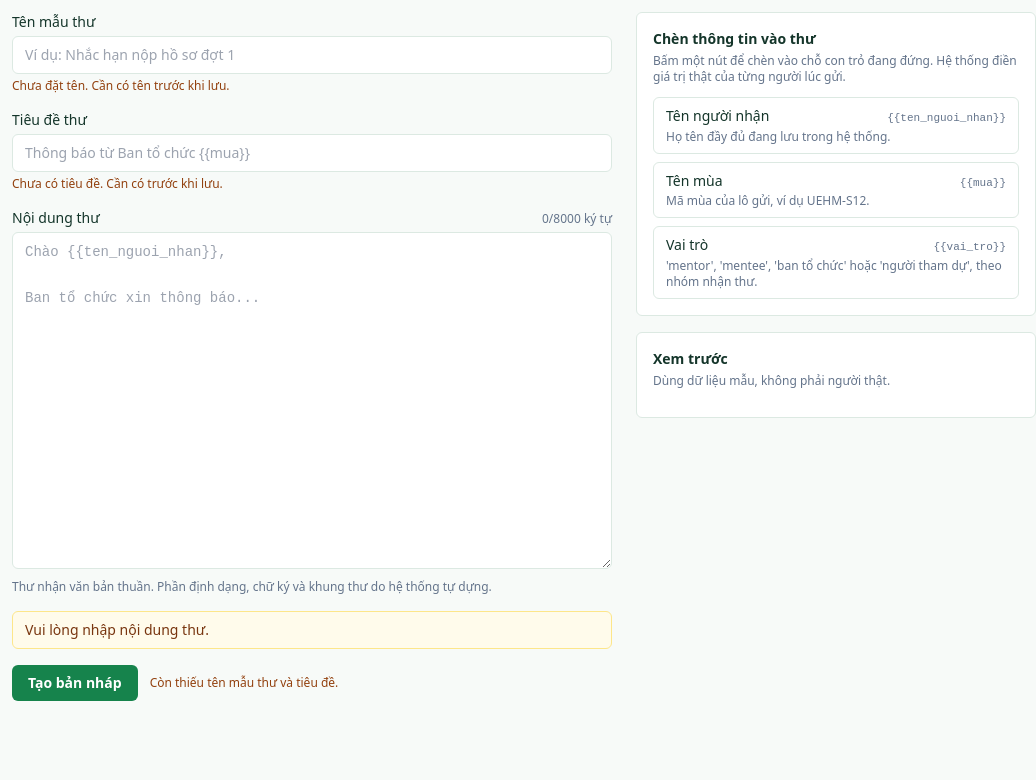
Test: chèn vào đúng chỗ › chèn vào thân thư khi chưa chạm vào ô nào
The width and height of the screenshot is (1036, 780).
What coordinates should you click on to do the following:
click the button "Tên người nhận"
I would click on:
 (836, 125)
Its box is [653,97,1019,154].
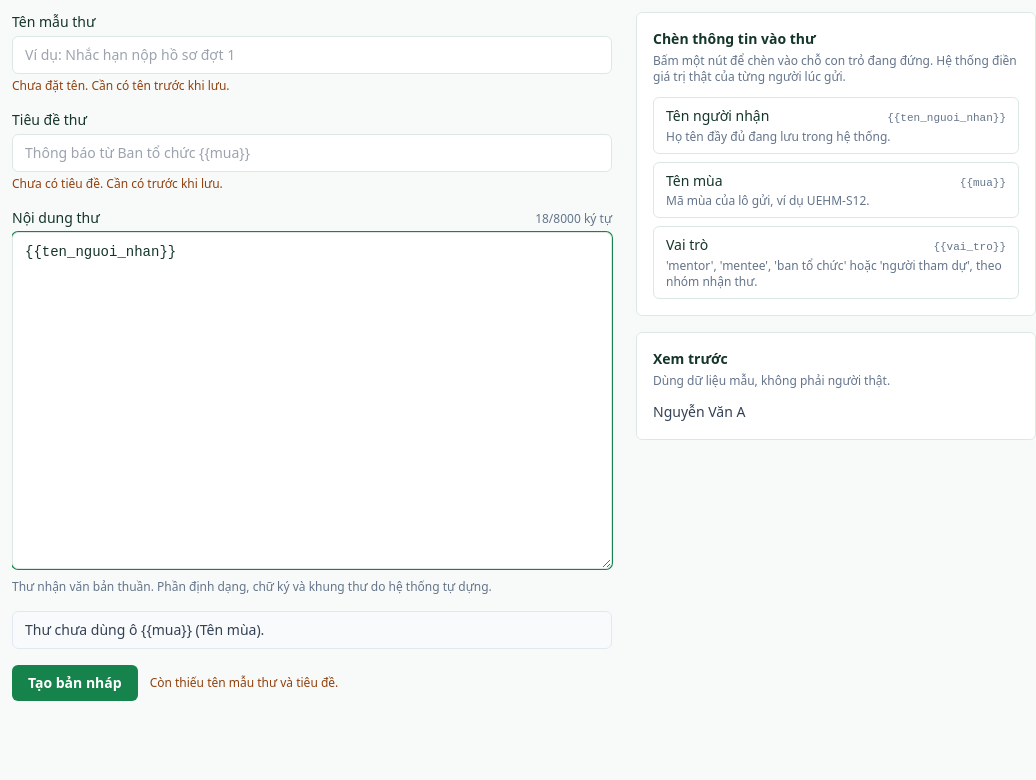
Expected: the field labelled "Tiêu đề thư" is empty, [12,134,612,172]
Result: the text box labelled "Nội dung thư" holds "{{ten_nguoi_nhan}}" at [12,232,612,568]
